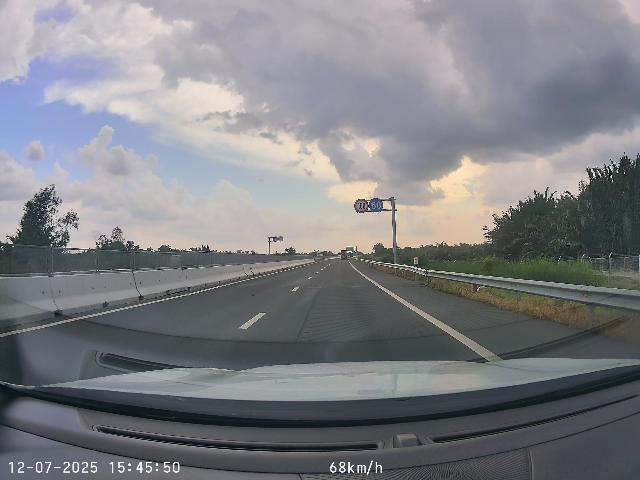127-toc-do-toi-da-100: (354, 198, 369, 213)
306-toc-do-toi-thieu-60: (369, 198, 383, 213)
